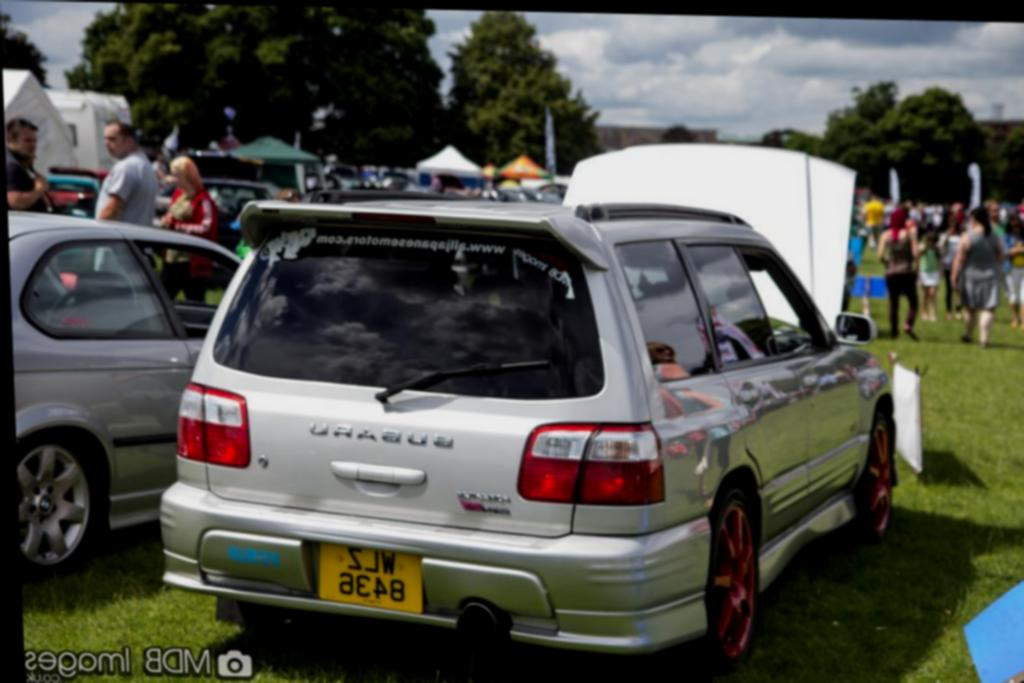License_Plate: (316, 547, 425, 614)
